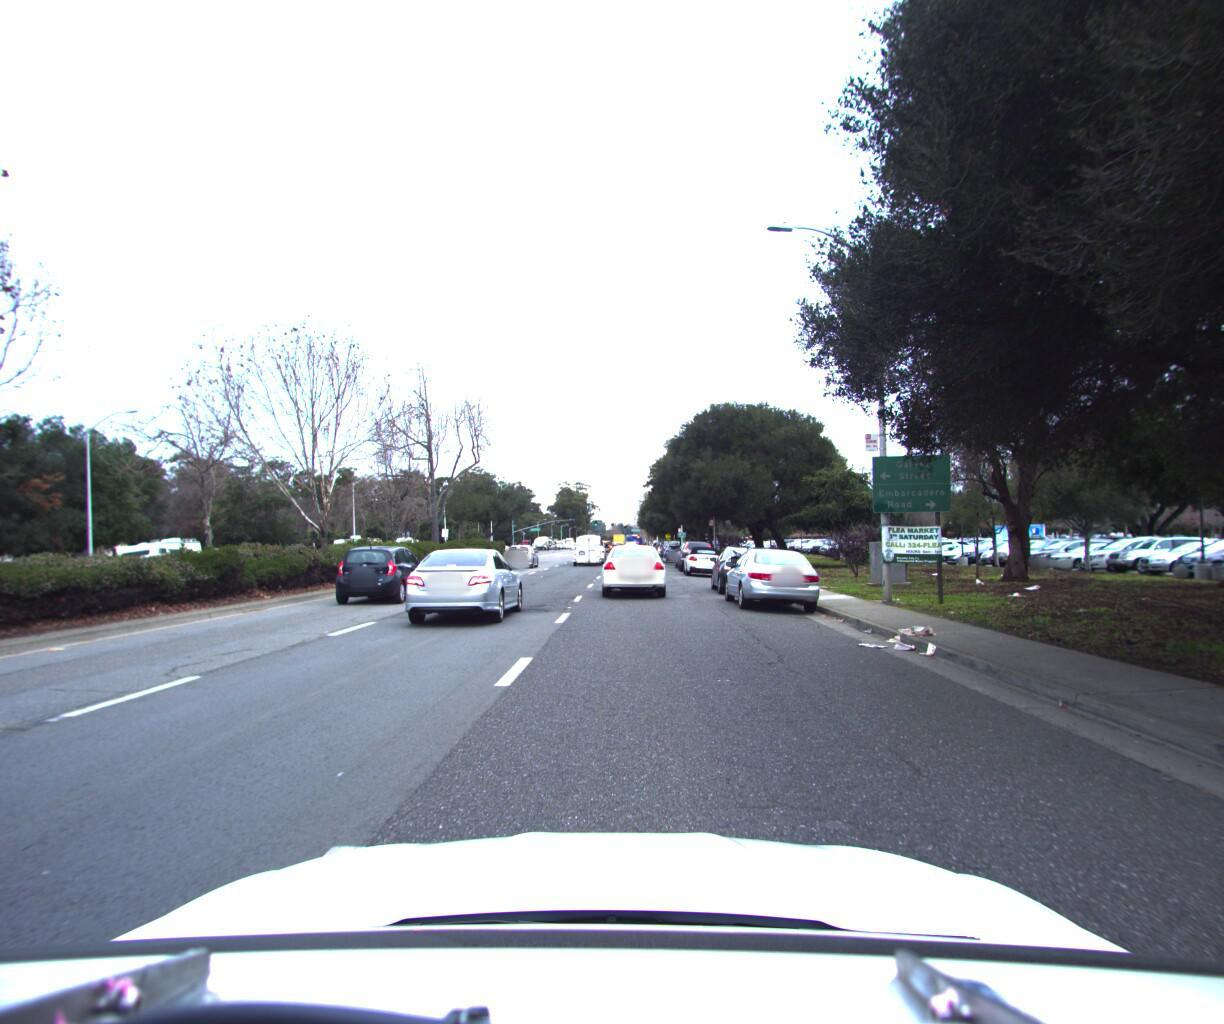car: (395, 543, 526, 633), (719, 541, 823, 613), (328, 541, 437, 605), (597, 539, 666, 600), (706, 540, 779, 593), (679, 540, 724, 573), (675, 534, 713, 568), (572, 529, 607, 563), (502, 539, 538, 566), (659, 537, 684, 557), (622, 536, 640, 551)
other_vehicle: (93, 536, 208, 590), (327, 530, 384, 567)
